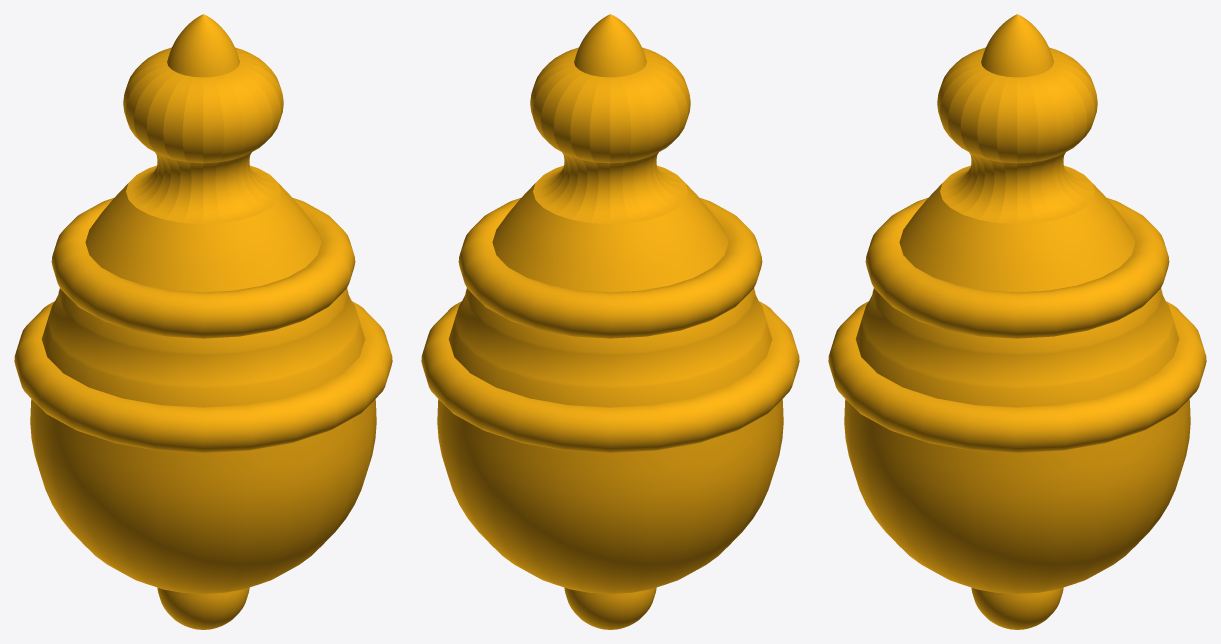
The model's file is building-2c.dae.
3 views of the same model, side by side, from view 1: azimuth 30°, elevation 25°; view 2: azimuth 150°, elevation 25°; view 3: azimuth 270°, elevation 25° (orthographic).
Parts seen in each view (by area): view 1: group_2, group_3, group_1; view 2: group_2, group_3, group_1; view 3: group_2, group_3, group_1.
Part boxes in pixels (x1,y1,x2,y2): group_2: (14,183,392,629); group_3: (123,47,283,224); group_1: (167,14,239,77); group_2: (421,183,799,629); group_3: (530,47,690,224); group_1: (574,14,646,77); group_2: (828,183,1206,629); group_3: (937,47,1097,224); group_1: (981,14,1053,77).
Bounding box in the file's own units: 170 × 170 × 303.
